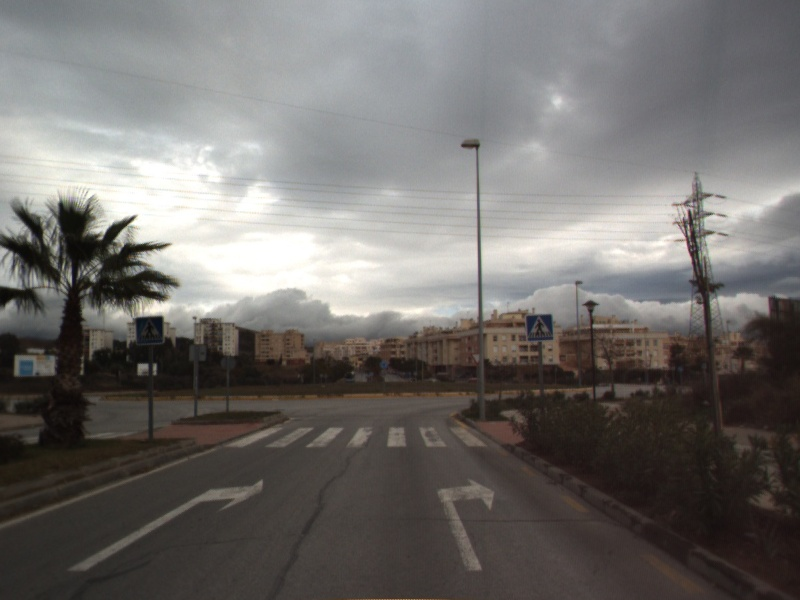RIGHT: (65, 477, 265, 573), (435, 476, 496, 573)
